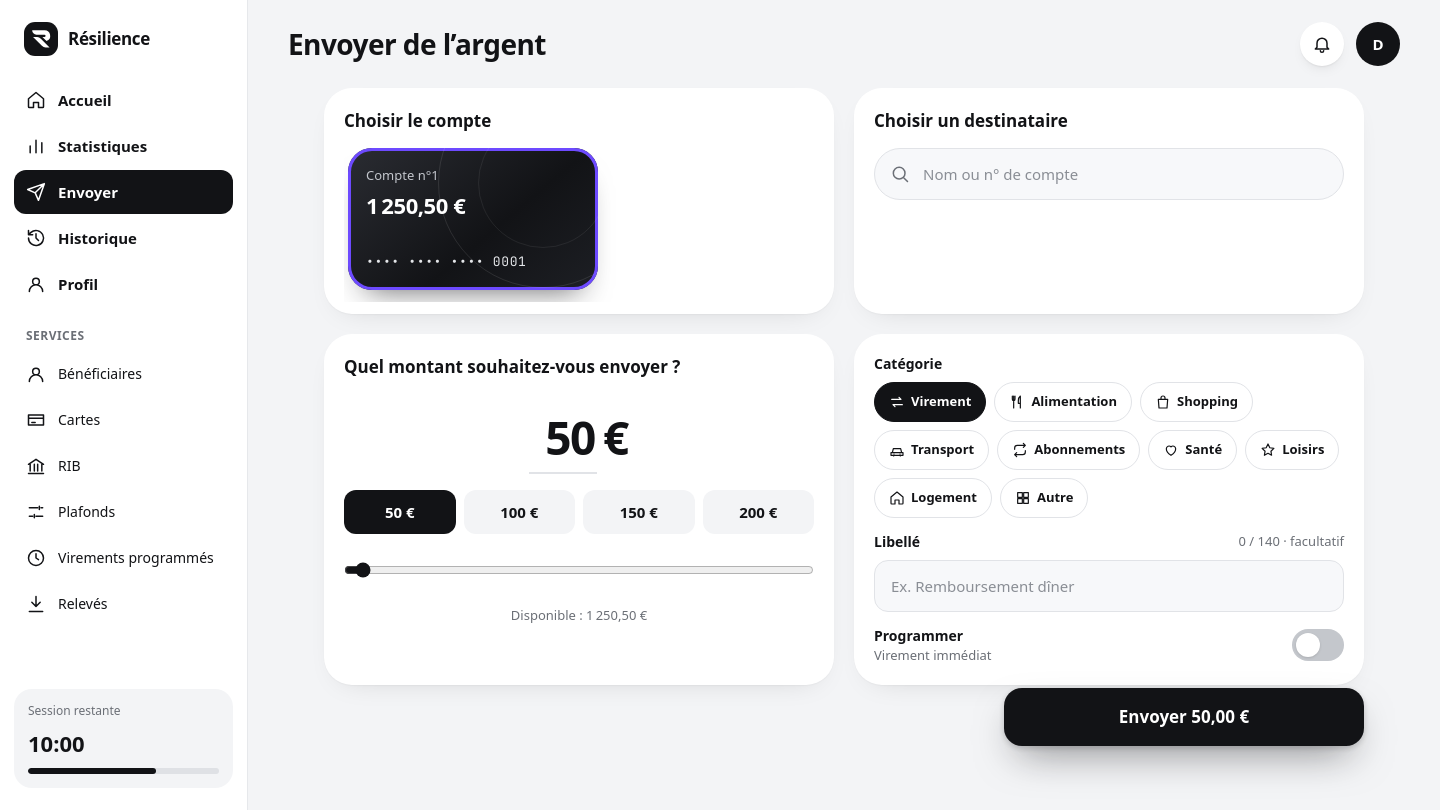
Front - envoi (desktop) › refus serveur insufficient_funds (409) : « Virement refusé — solde insuffisant »
Type "77" into the search field named "Rechercher un destinataire par nom ou numéro de compte" at [1109, 174], box top-left (874, 148), bottom-right (1344, 200)
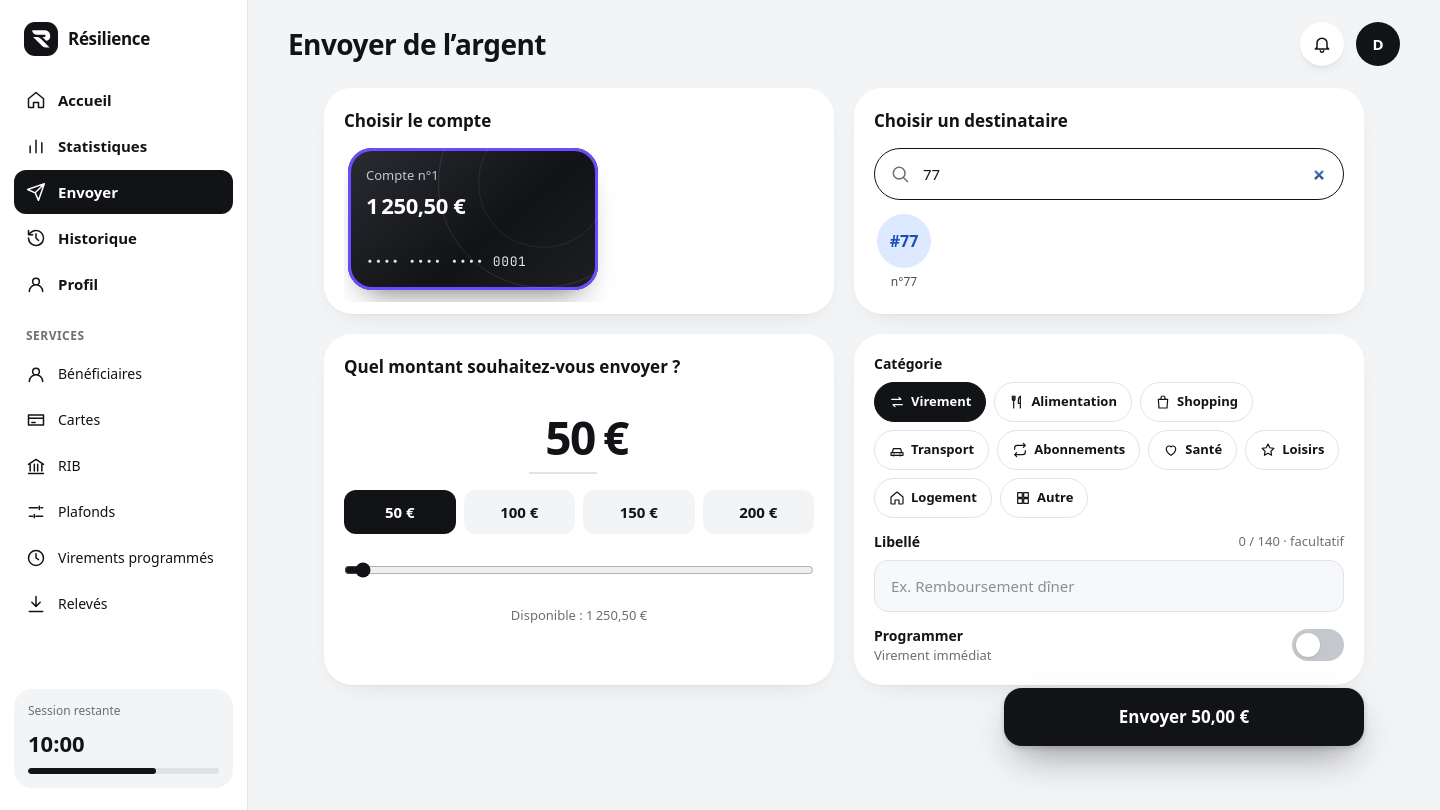
Click the button named "Compte n°77" at [904, 252], box top-left (874, 214), bottom-right (934, 290)
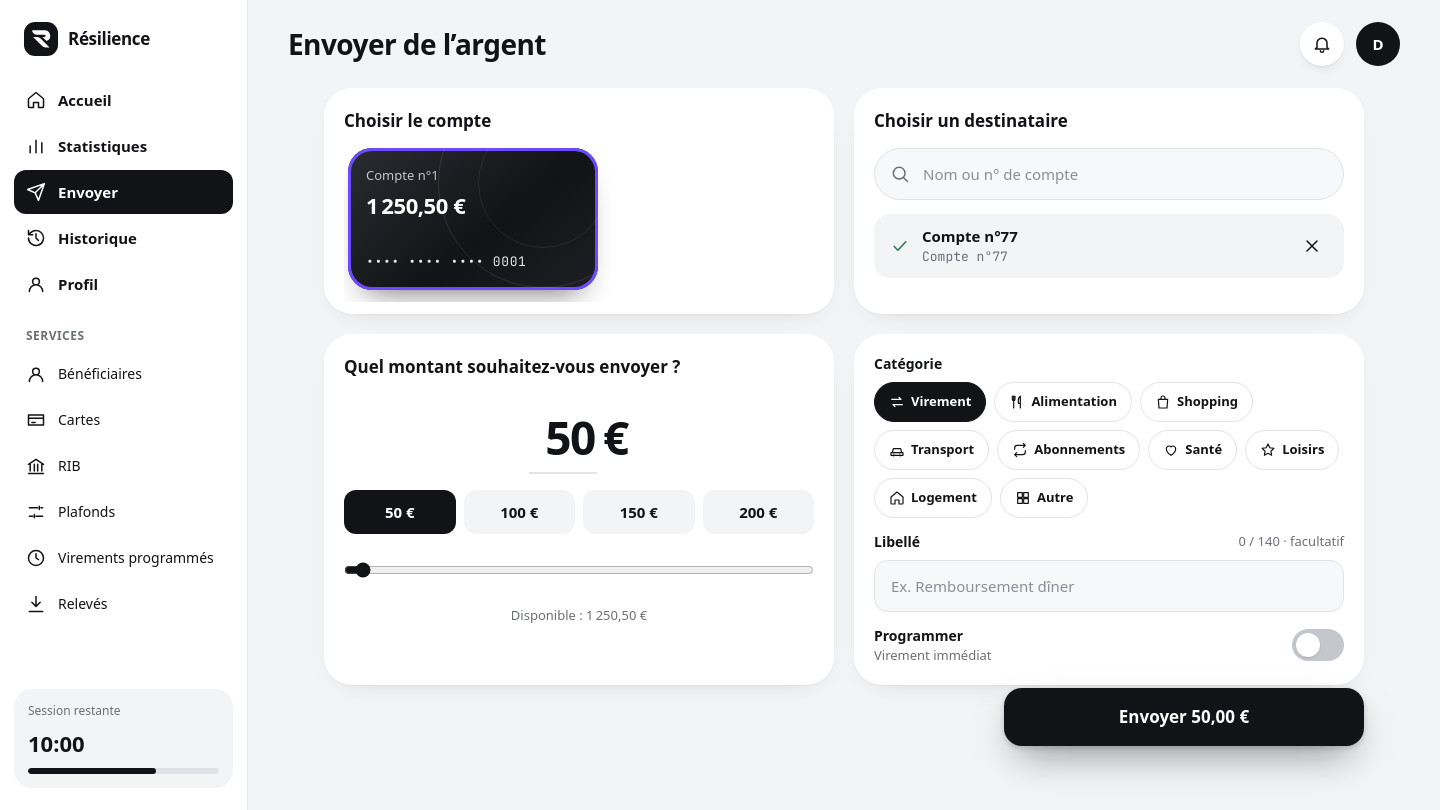
Clear the field named "Montant en euros" at [563, 438], box top-left (529, 403), bottom-right (597, 474)
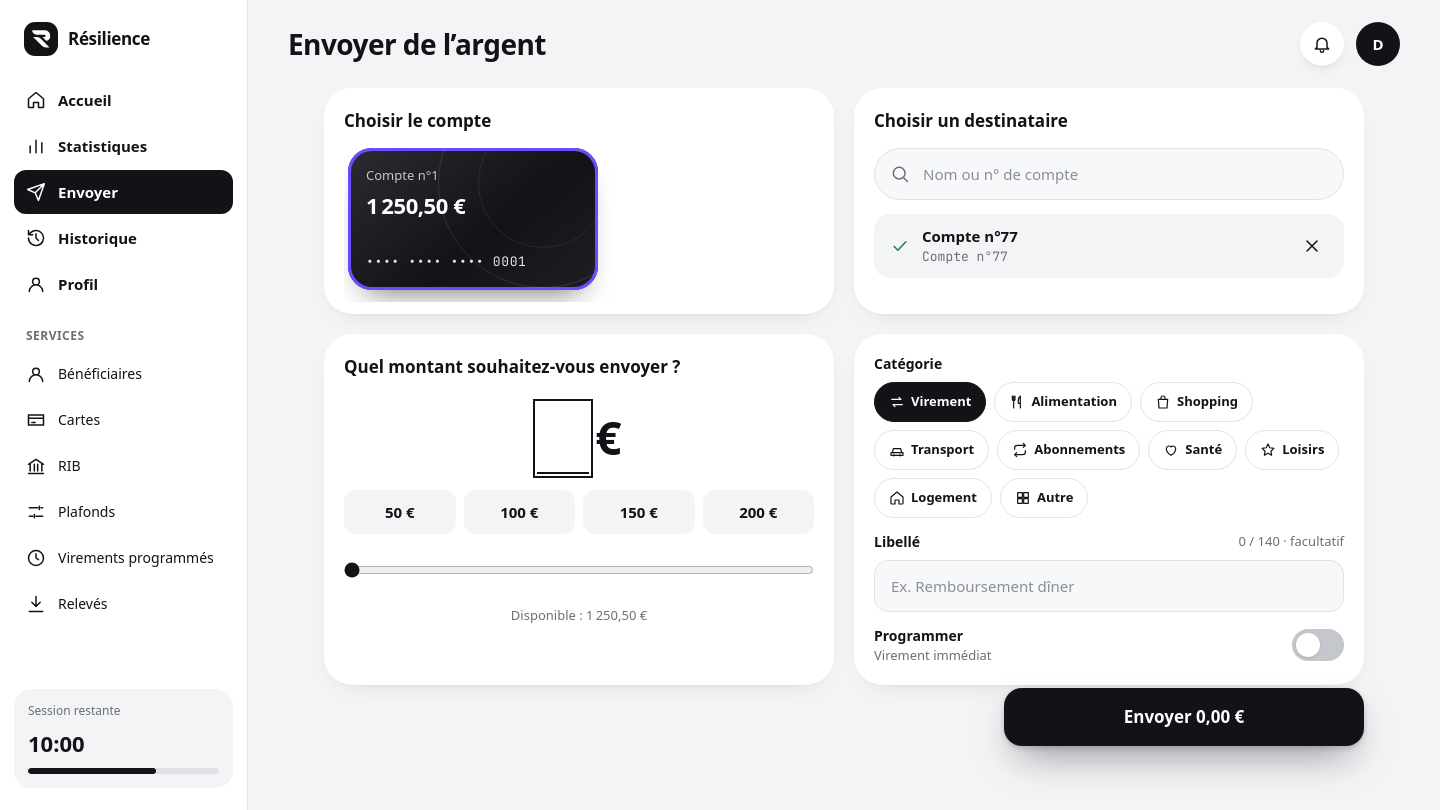
Type "10" into the field named "Montant en euros" at [563, 438], box top-left (536, 403), bottom-right (589, 474)
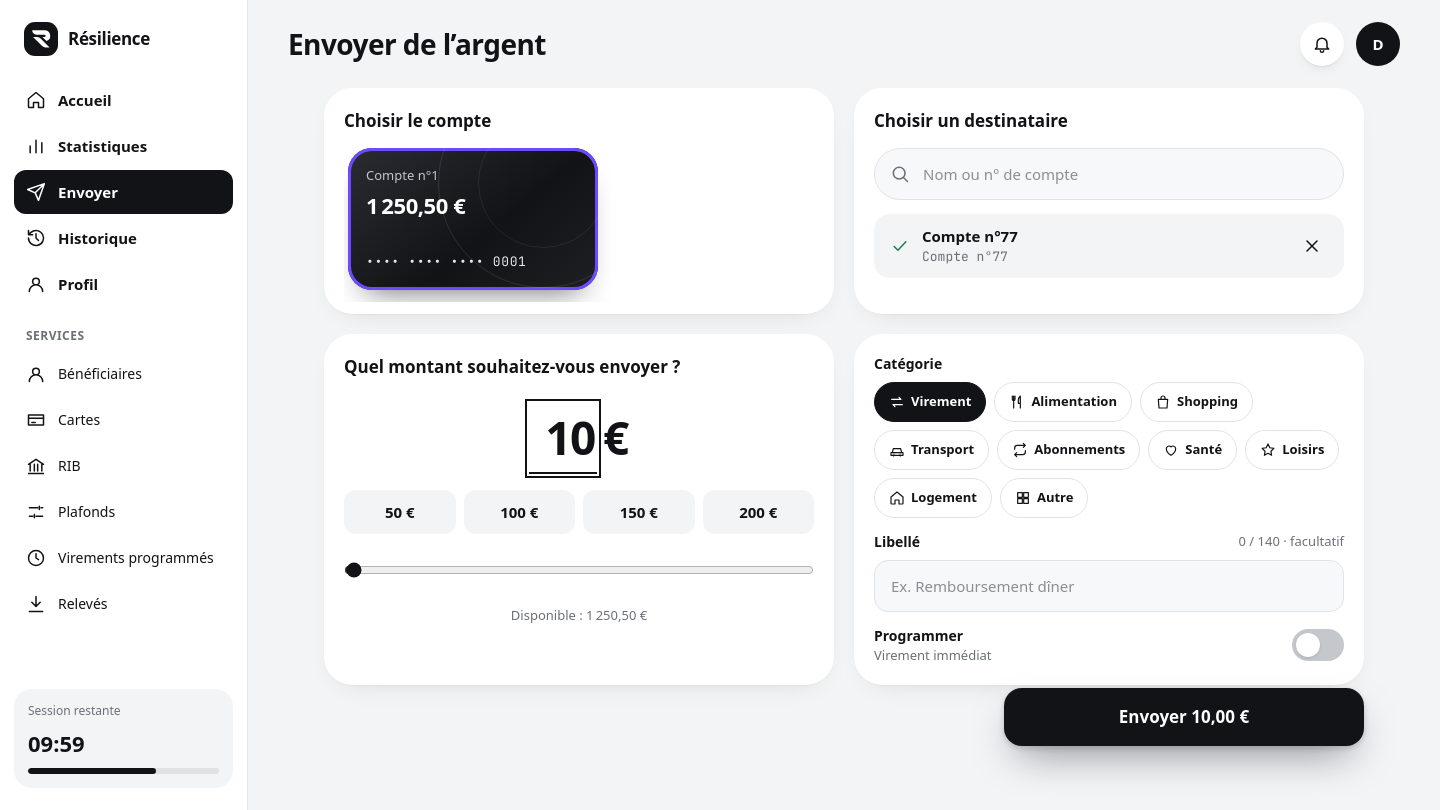
Click the button "Envoyer 10,00 €" at [1184, 717], box top-left (1004, 688), bottom-right (1364, 746)
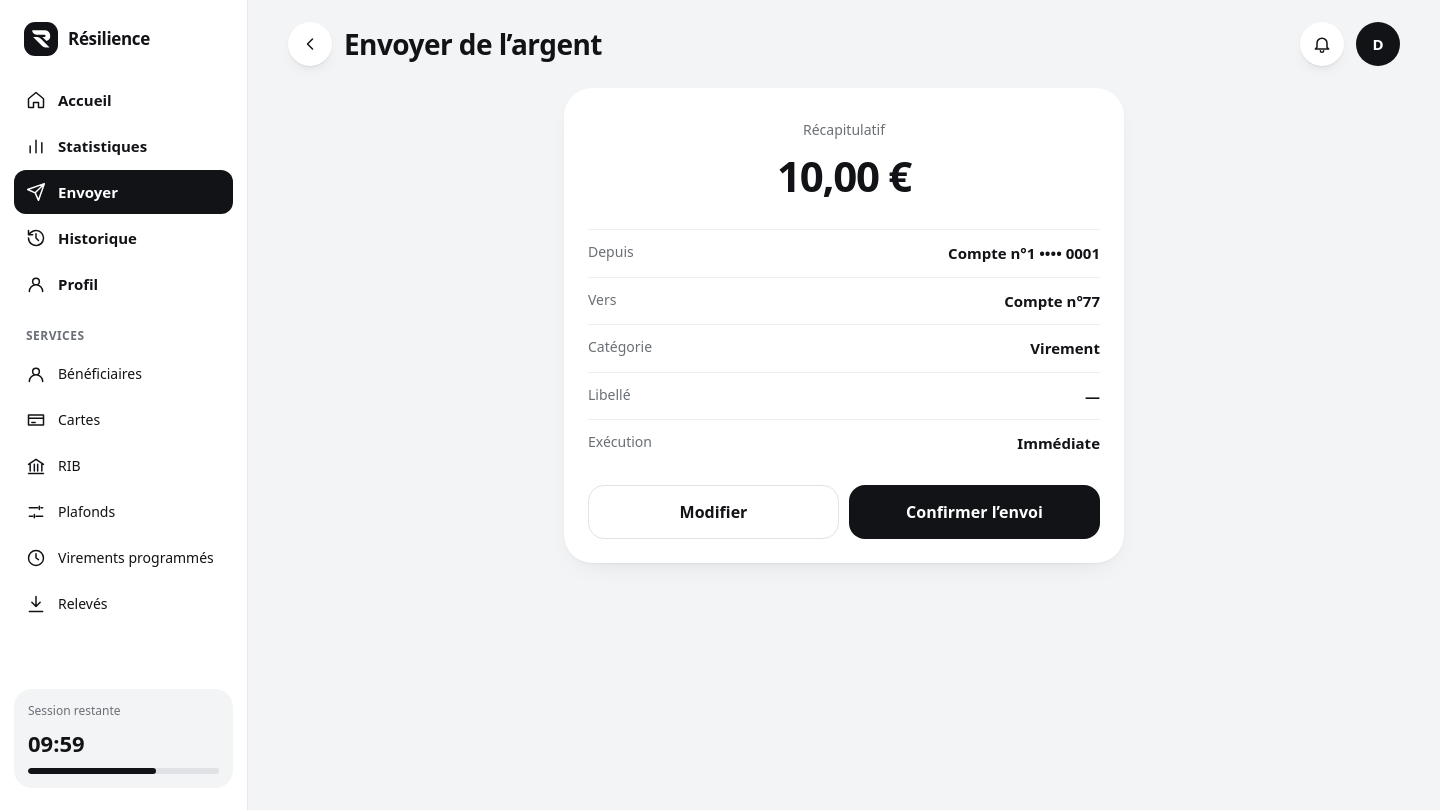
Click the button "Confirmer l’envoi" at [974, 512], box top-left (849, 484), bottom-right (1100, 538)
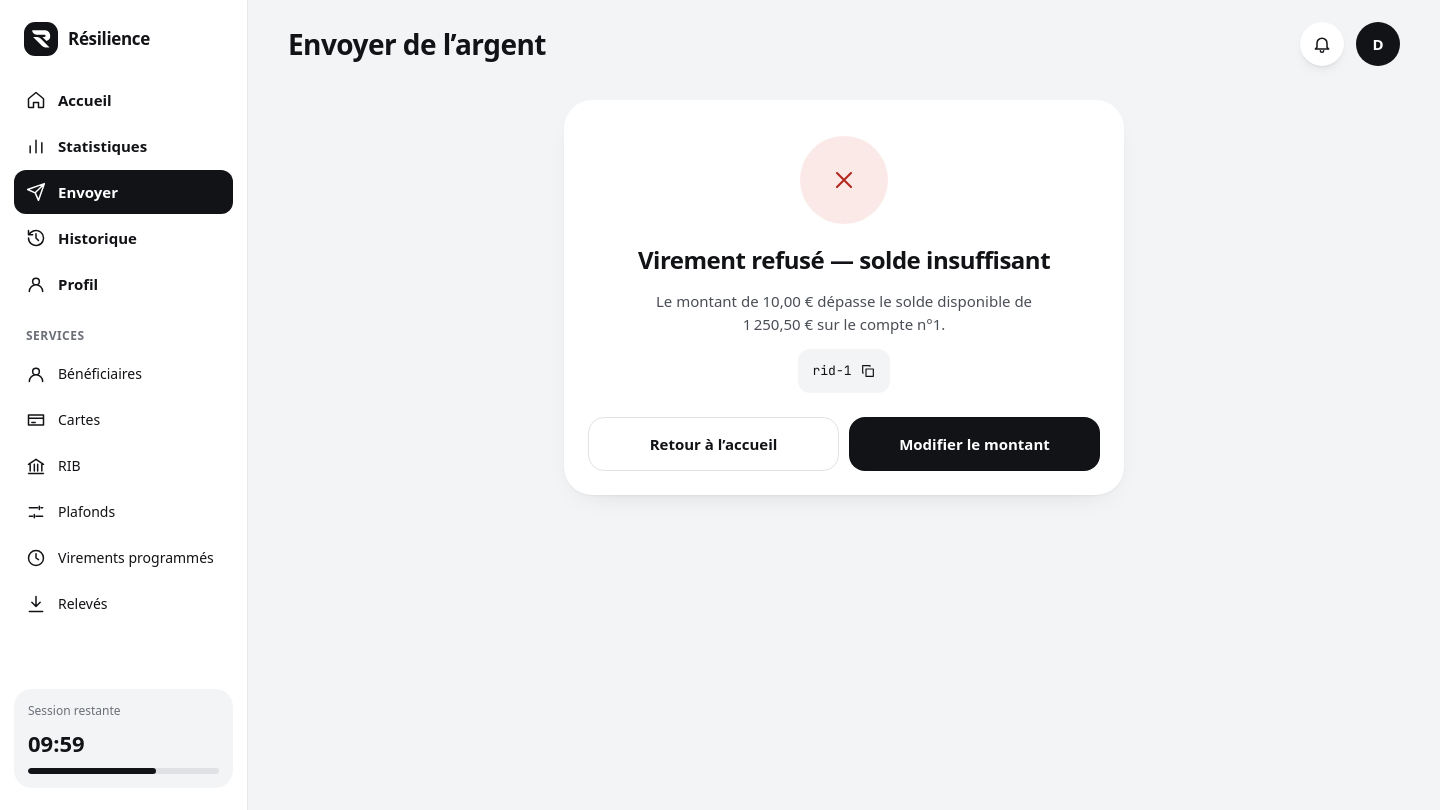
Now the message shows "Virement refusé — solde insuffisant", box top-left (638, 243), bottom-right (1050, 276)
Now the message shows "rid-1", box top-left (798, 349), bottom-right (890, 393)
